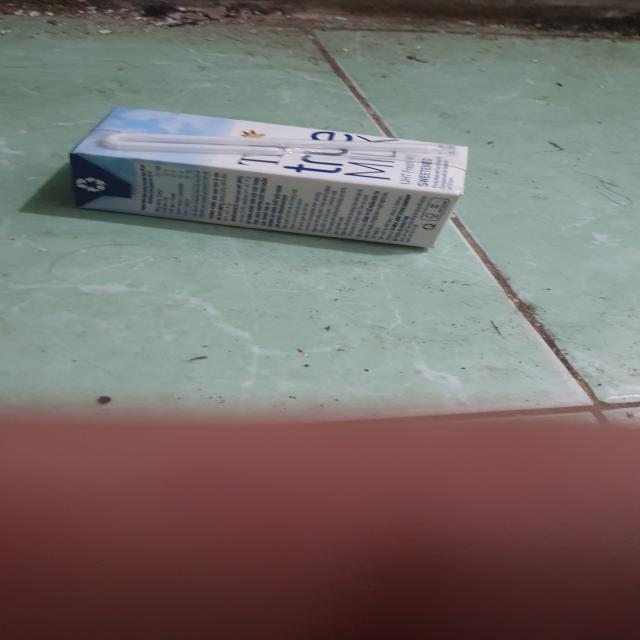TH: (63, 106, 469, 250)
